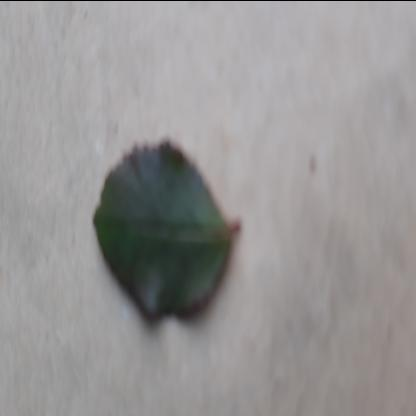powdery-mildew: (90, 121, 233, 330)
